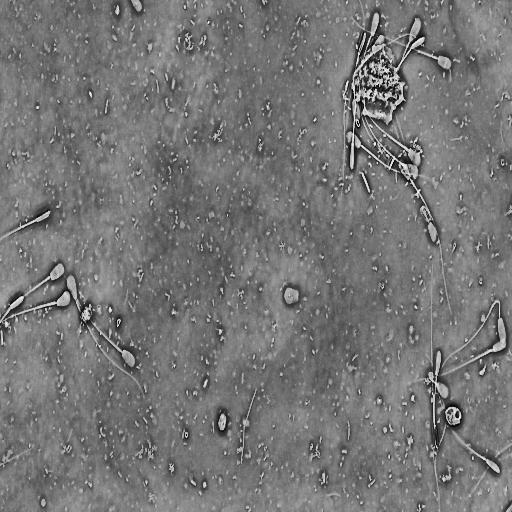coiled-tail: (421, 205, 431, 225), (429, 371, 438, 385)
dirt-particles: (351, 32, 409, 127), (444, 403, 463, 428), (79, 300, 94, 324), (216, 408, 228, 434)
folded-tail: (439, 300, 500, 374)
loose-head: (283, 284, 301, 308)
loose-tail: (466, 440, 512, 504), (239, 384, 258, 469)
normal: (65, 272, 148, 399), (345, 129, 448, 194), (348, 12, 454, 73), (437, 295, 508, 373), (406, 335, 509, 388), (0, 257, 66, 319), (84, 308, 138, 370), (0, 287, 74, 327), (449, 423, 502, 475), (0, 206, 53, 247), (429, 256, 440, 452), (431, 348, 442, 511), (348, 57, 363, 174), (395, 14, 423, 75), (419, 205, 439, 247), (428, 371, 451, 400)
